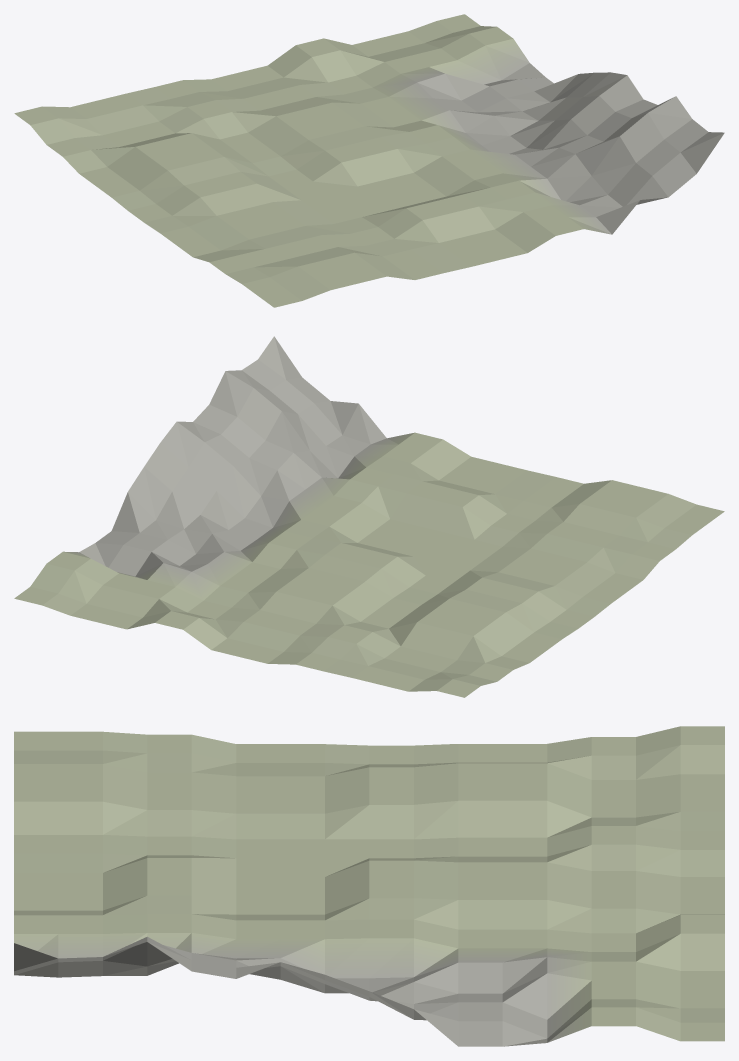
3 renders of one model, top to bottom at view 1: azimuth 30°, elevation 25°; view 2: azimuth 150°, elevation 25°; view 3: azimuth 270°, elevation 25°, orthographic. The views are drawn at different scales.
Bounding box in the file's own units: 32 × 5.74 × 32.
